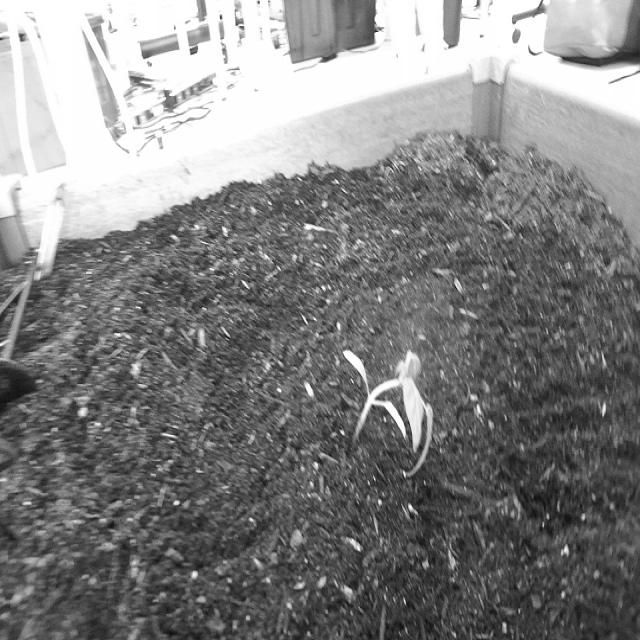Healthy: (327, 310, 438, 488)
